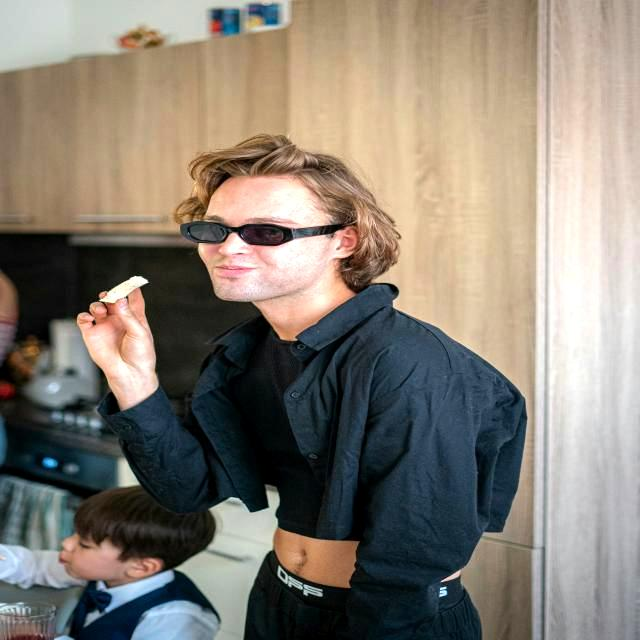no_head_wear: (163, 133, 401, 280), (74, 486, 216, 570)
person: (74, 137, 534, 640), (49, 482, 231, 640)
